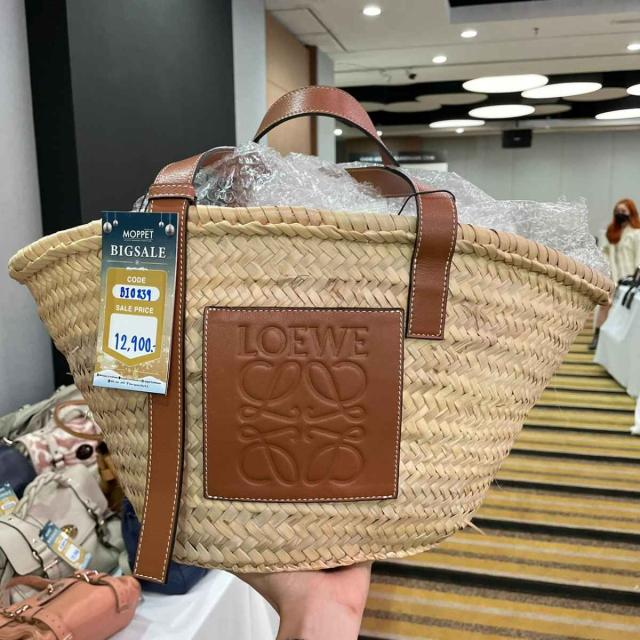handbag: (0, 147, 610, 575)
